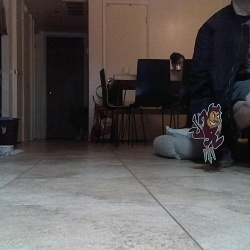sparky: (187, 102, 224, 164)
